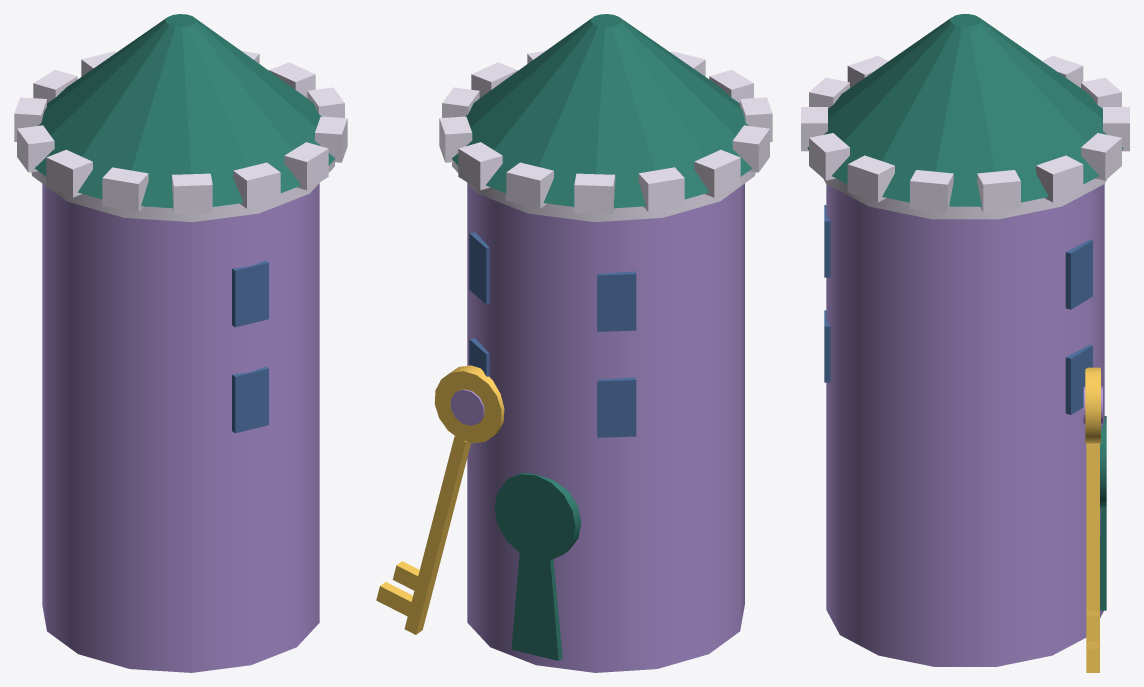
The model's file is bld_d6_c.glb.
3 renders of one model, left to right at view 1: azimuth 30°, elevation 25°; view 2: azimuth 150°, elevation 25°; view 3: azimuth 270°, elevation 25°, orthographic.
Visible parts, largest first — view 1: bld_d6_c; view 2: bld_d6_c; view 3: bld_d6_c.
Boxes of the visible parts, <box> form: bld_d6_c: <box>14,14,347,672</box>; bld_d6_c: <box>376,14,772,672</box>; bld_d6_c: <box>801,14,1129,672</box>.
Size of the model in its own units: 9.08 by 16.84 by 8.5.
